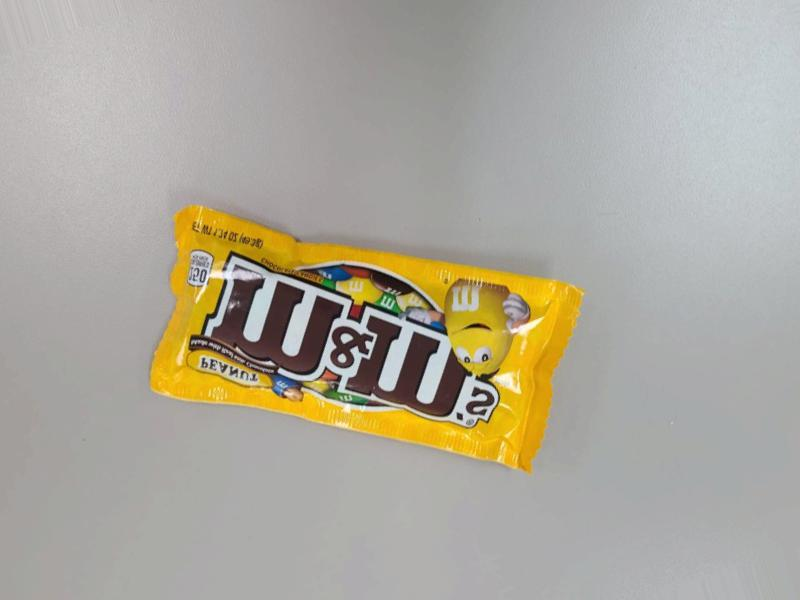m&m: (138, 204, 568, 491)
